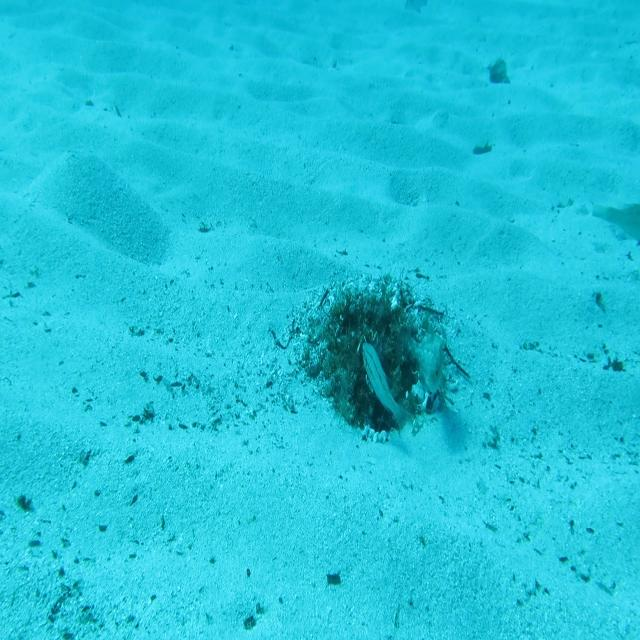DAN_CIRC: (395, 320, 446, 395)
core_nest: (356, 296, 402, 333)
female: (361, 340, 416, 438), (590, 201, 640, 244)
nest: (290, 261, 460, 447)
other_fish: (401, 0, 432, 15)
vegetation: (487, 56, 511, 83), (472, 139, 494, 158), (324, 570, 343, 586)
